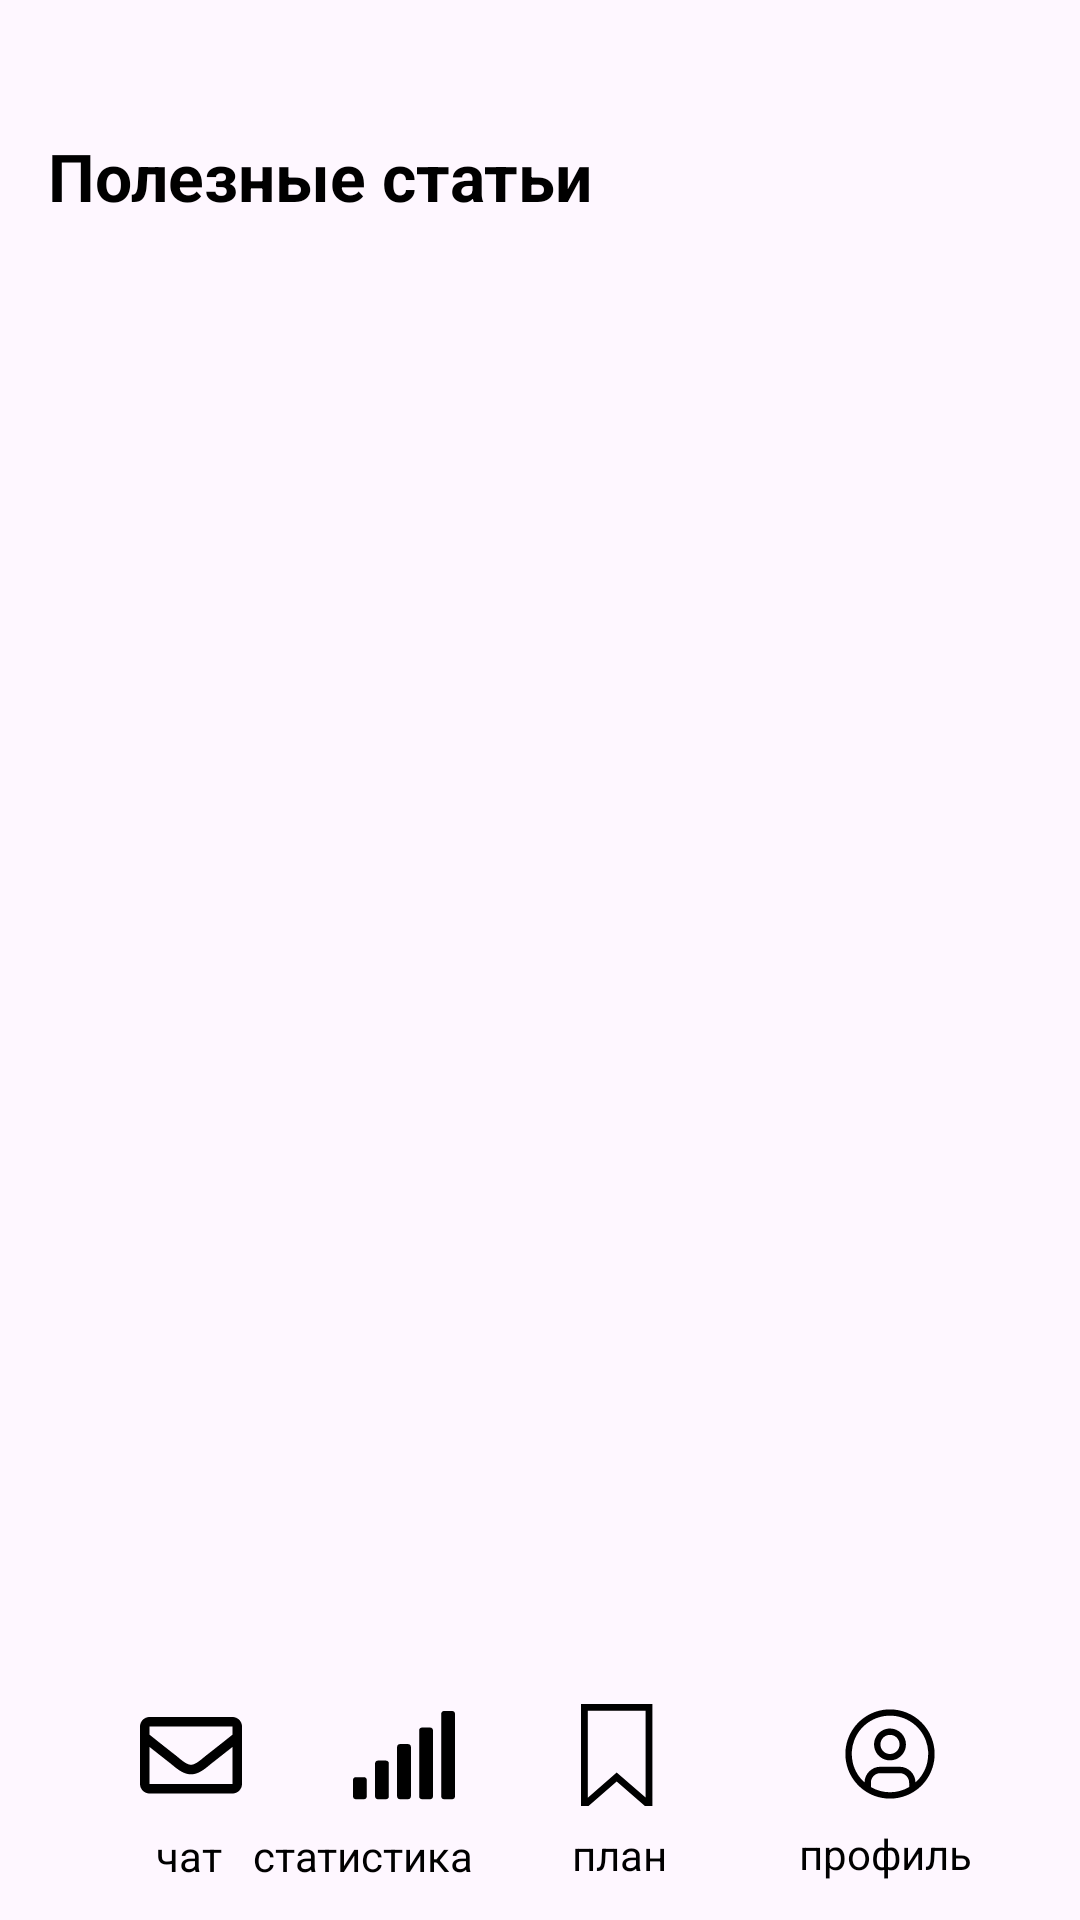

Named icons in this screenshot (1080 x 1920) and their centers, (x=x, y=y):
Аватар пользователя: (x=890, y=1754)
